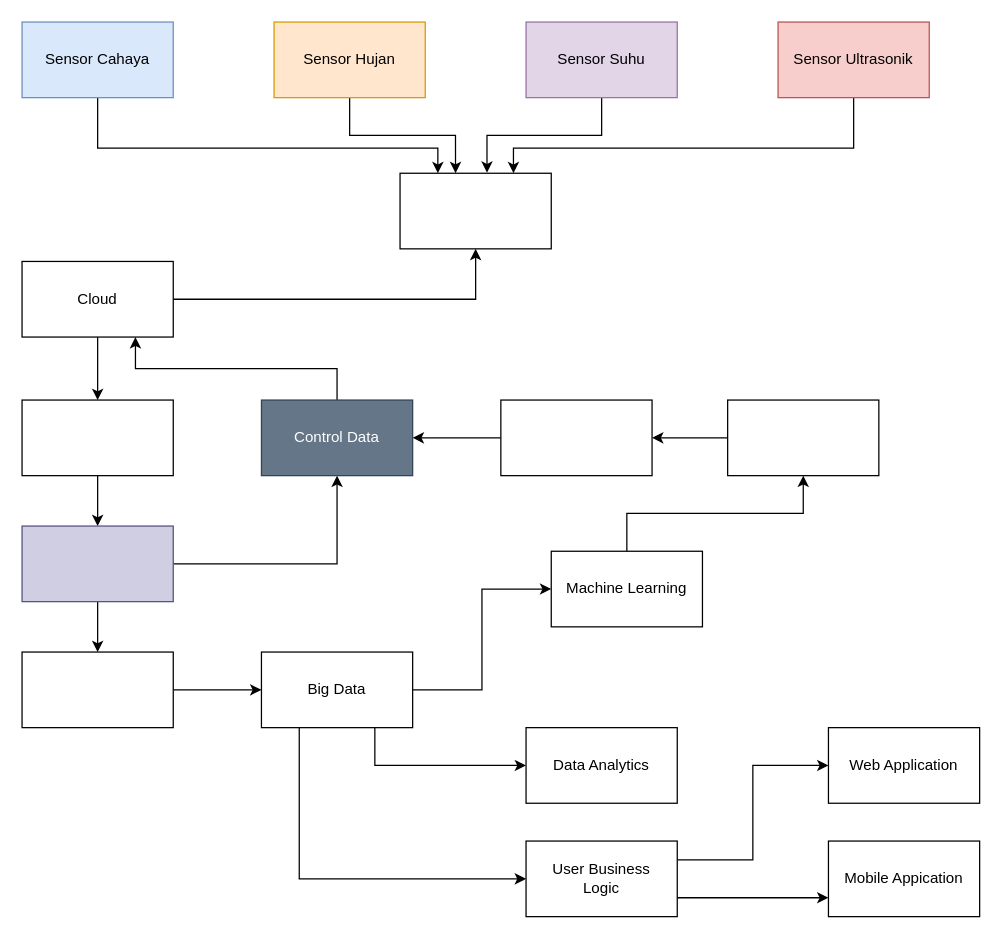
Some shapes in this 1002 by 939 pixel diagram are drawn without their labels. Here are the shapes that lost their labels. From the top down, the box of each, then its label:
(399, 172, 551, 249): Gateaway
(21, 399, 173, 476): Streaming Data
(500, 399, 652, 476): Control Apps
(726, 399, 879, 476): Models
(21, 525, 173, 602): Sensor Data
(21, 651, 173, 728): Lake Data
